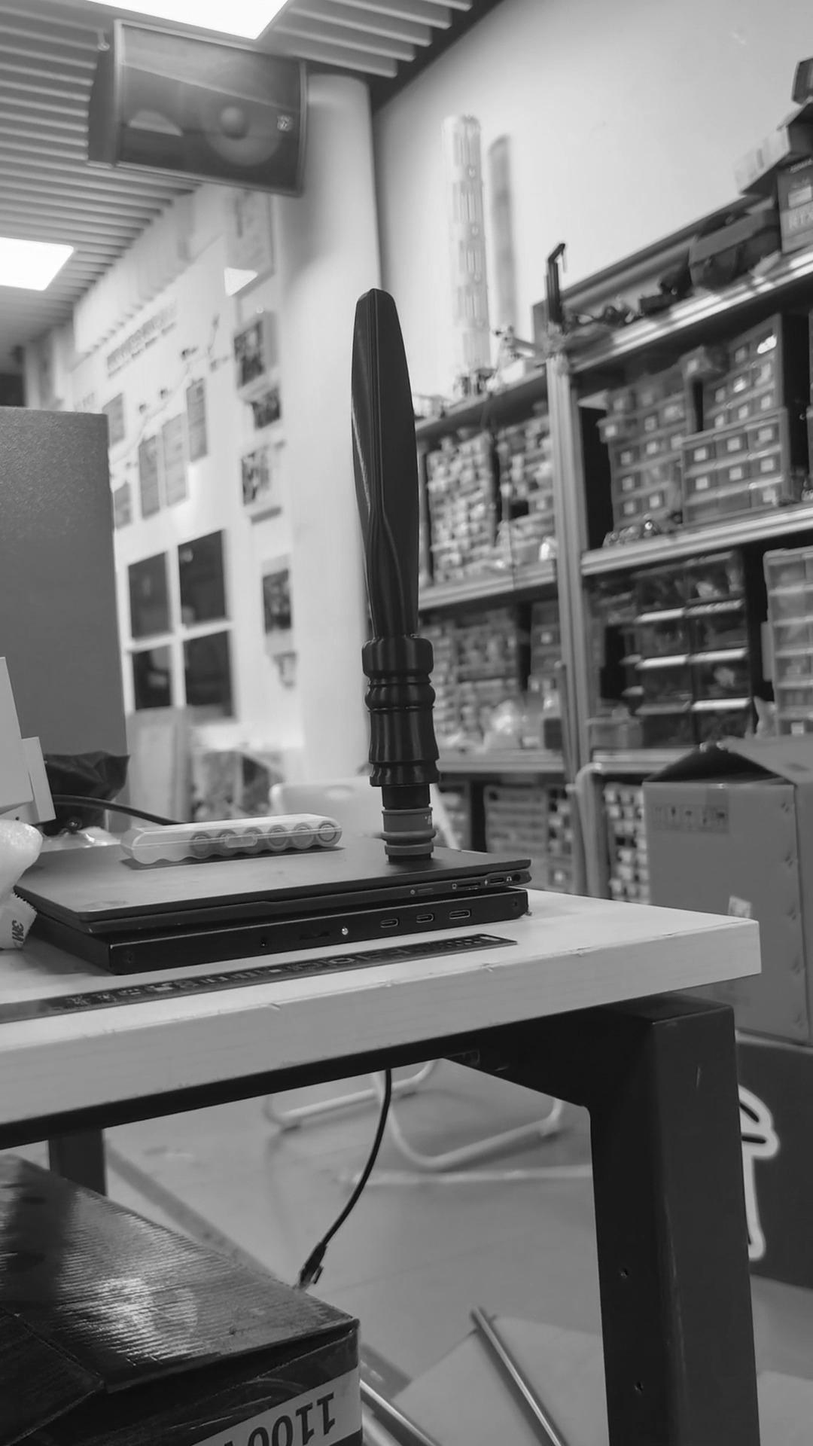base: (377, 810, 438, 859)
